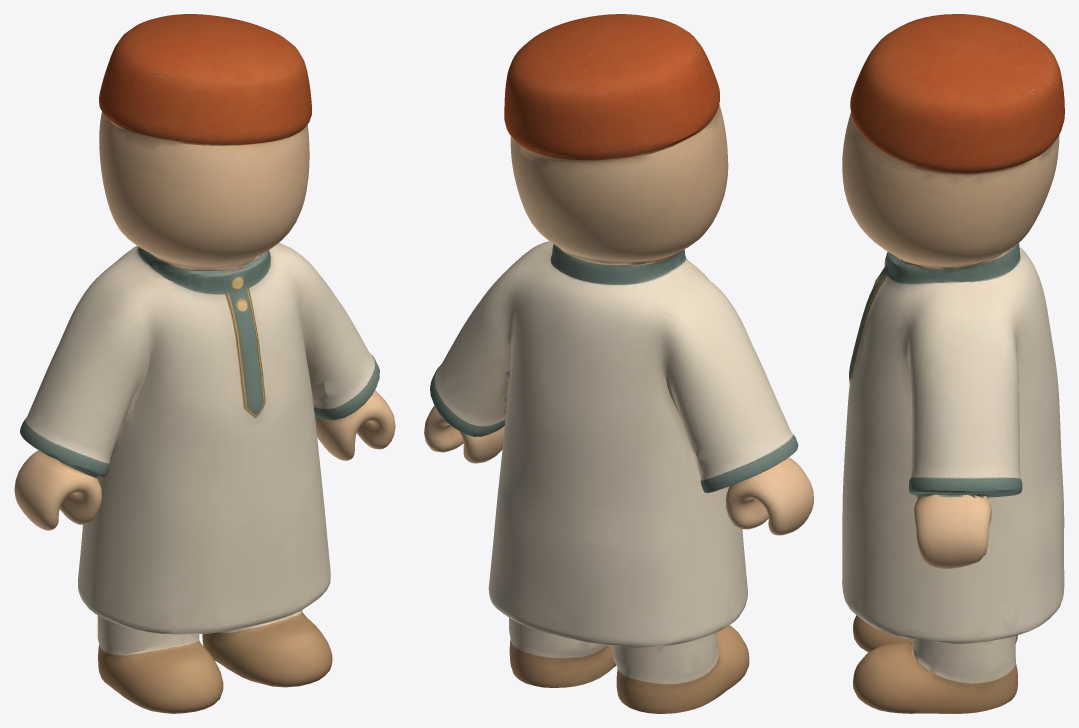
Rendered from Meshy_AI_model.glb.
3 renders of one model, left to right at view 1: azimuth 30°, elevation 25°; view 2: azimuth 150°, elevation 25°; view 3: azimuth 270°, elevation 25°, orthographic. The views are drawn at different scales.
Parts seen in each view (by area): view 1: Mesh0; view 2: Mesh0; view 3: Mesh0.
Part boxes in pixels (x1,y1,x2,y2): Mesh0: (14,14,395,713); Mesh0: (424,14,813,713); Mesh0: (842,14,1064,713).
Size of the model in its own units: 1.14 by 1.9 by 0.6052.
1 material, 1 textured.
